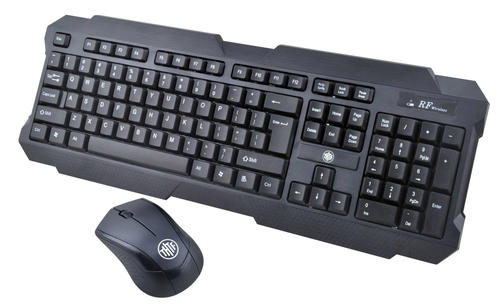keyboard: (18, 14, 489, 264)
mouse: (93, 198, 204, 297)
